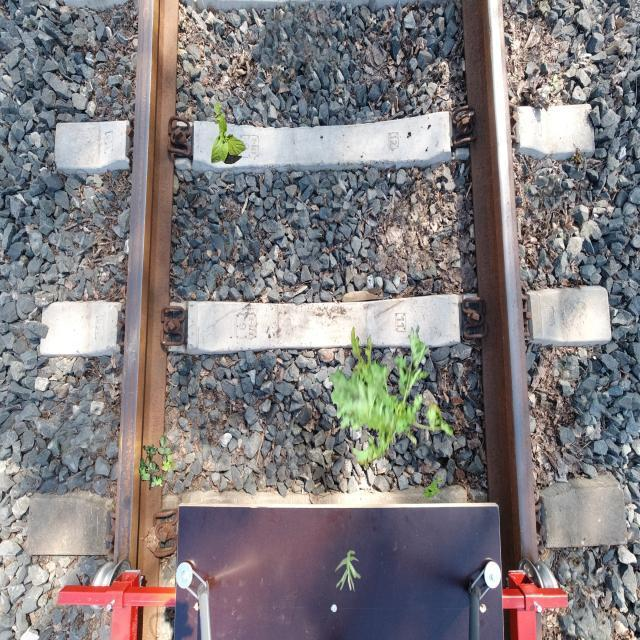Plant: (329, 325, 454, 472), (211, 102, 246, 164), (139, 435, 176, 490), (335, 550, 362, 592), (423, 476, 442, 501)
